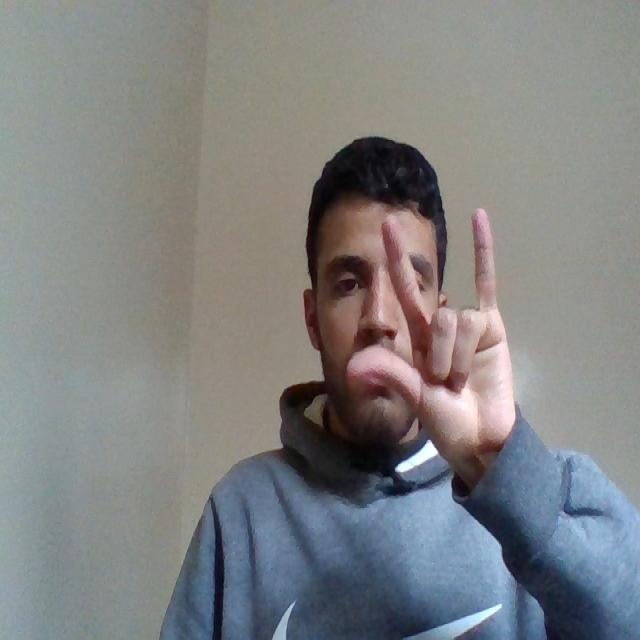I Love You: (336, 201, 532, 476)
